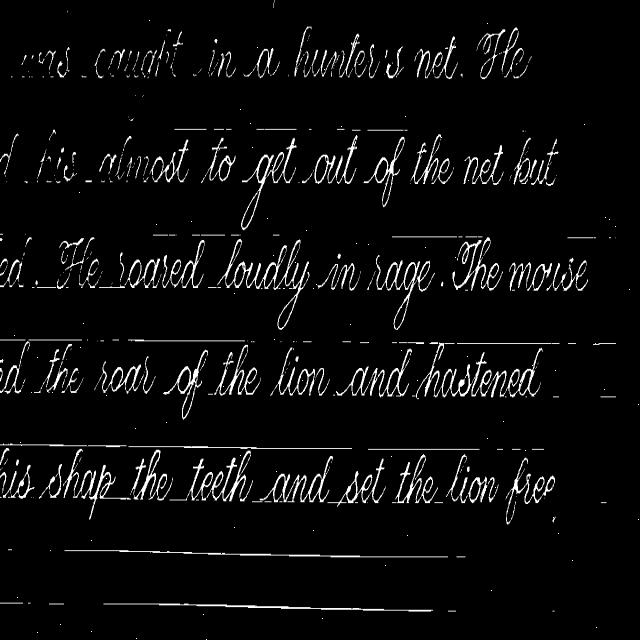noise: (100, 600, 434, 615), (59, 548, 466, 559), (0, 442, 357, 454), (248, 127, 408, 138), (428, 341, 561, 350), (551, 499, 616, 516), (0, 599, 65, 613), (366, 447, 484, 453), (126, 339, 248, 343), (174, 126, 243, 132), (567, 391, 617, 399), (0, 338, 125, 341), (31, 281, 61, 292), (0, 546, 54, 551), (329, 340, 370, 346), (447, 607, 466, 618), (530, 448, 552, 456), (392, 236, 462, 238), (494, 448, 521, 453), (98, 284, 123, 289), (390, 340, 425, 343), (191, 233, 225, 236), (566, 236, 596, 239), (592, 342, 616, 345), (153, 233, 176, 236), (465, 236, 482, 240), (110, 497, 130, 500), (568, 340, 577, 346), (552, 395, 567, 398), (208, 284, 216, 288), (303, 340, 312, 343), (230, 233, 238, 236), (273, 233, 279, 236), (441, 281, 444, 286), (170, 499, 184, 500), (608, 236, 612, 239)
not-noise: (20, 27, 532, 100), (216, 238, 309, 329), (242, 146, 364, 213), (252, 455, 388, 506), (418, 344, 542, 397), (38, 449, 115, 517), (372, 259, 434, 328), (120, 240, 204, 288), (336, 349, 411, 397), (480, 258, 588, 291), (186, 450, 252, 501), (506, 458, 555, 524), (22, 130, 76, 183), (271, 348, 330, 396), (168, 349, 208, 419), (454, 237, 504, 291), (366, 136, 404, 206), (212, 343, 262, 396), (100, 153, 189, 182), (446, 454, 498, 503), (362, 153, 406, 206), (392, 453, 438, 503), (56, 237, 101, 287), (512, 138, 558, 185), (40, 343, 83, 393), (130, 450, 173, 500), (98, 356, 154, 394), (411, 134, 452, 184), (0, 447, 34, 499), (506, 153, 556, 186), (0, 236, 32, 287), (0, 340, 30, 394), (318, 253, 360, 290), (462, 152, 506, 186), (201, 137, 233, 183), (241, 171, 266, 229), (410, 153, 456, 184), (200, 148, 236, 183), (270, 137, 296, 183), (0, 465, 34, 497), (0, 133, 20, 177), (0, 252, 24, 287), (341, 135, 356, 183), (176, 140, 188, 181), (420, 476, 434, 502), (491, 144, 502, 176), (460, 242, 476, 262), (116, 154, 122, 179), (123, 136, 132, 152), (335, 172, 340, 183), (128, 116, 134, 121), (336, 164, 339, 171)
